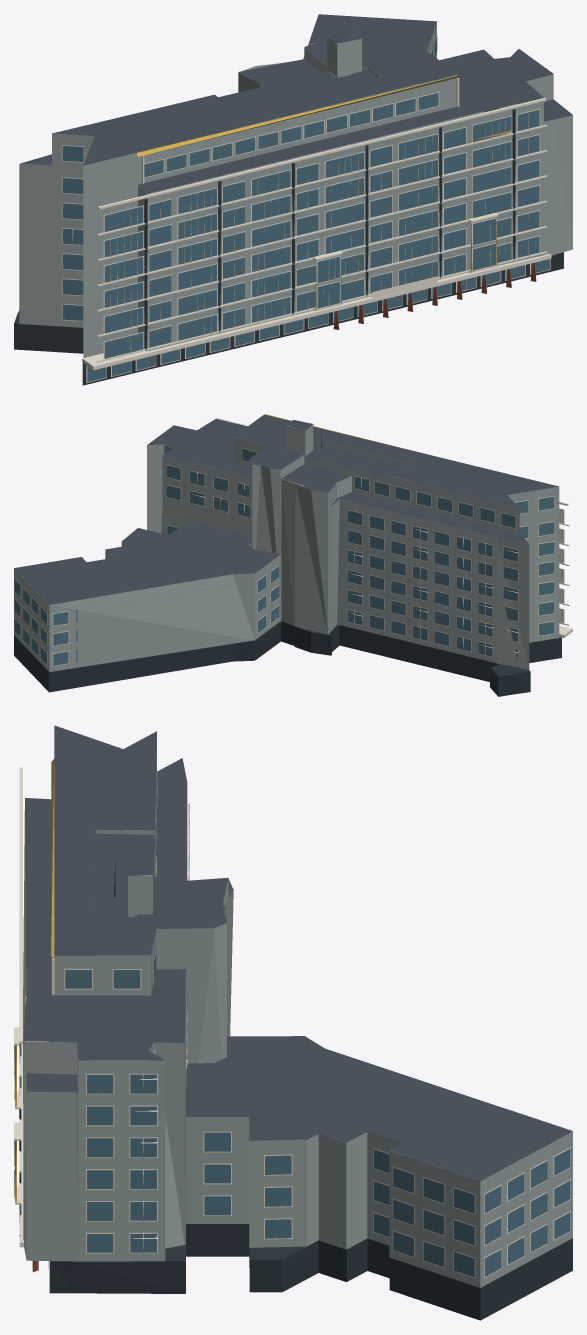
Rendered from amsta-de-poort.lod1.glb.
3 renders of one model, top to bottom at view 1: azimuth 30°, elevation 25°; view 2: azimuth 150°, elevation 25°; view 3: azimuth 270°, elevation 25°, orthographic. The views are drawn at different scales.
Visible parts, largest first — view 1: amsta-de-poort; view 2: amsta-de-poort; view 3: amsta-de-poort.
Part boxes in pixels (x1,y1,x2,y2): amsta-de-poort: (14, 14, 572, 385); amsta-de-poort: (14, 414, 572, 696); amsta-de-poort: (14, 725, 572, 1320).
Size of the model in its own units: 71.85 by 31.8 by 51.28.
